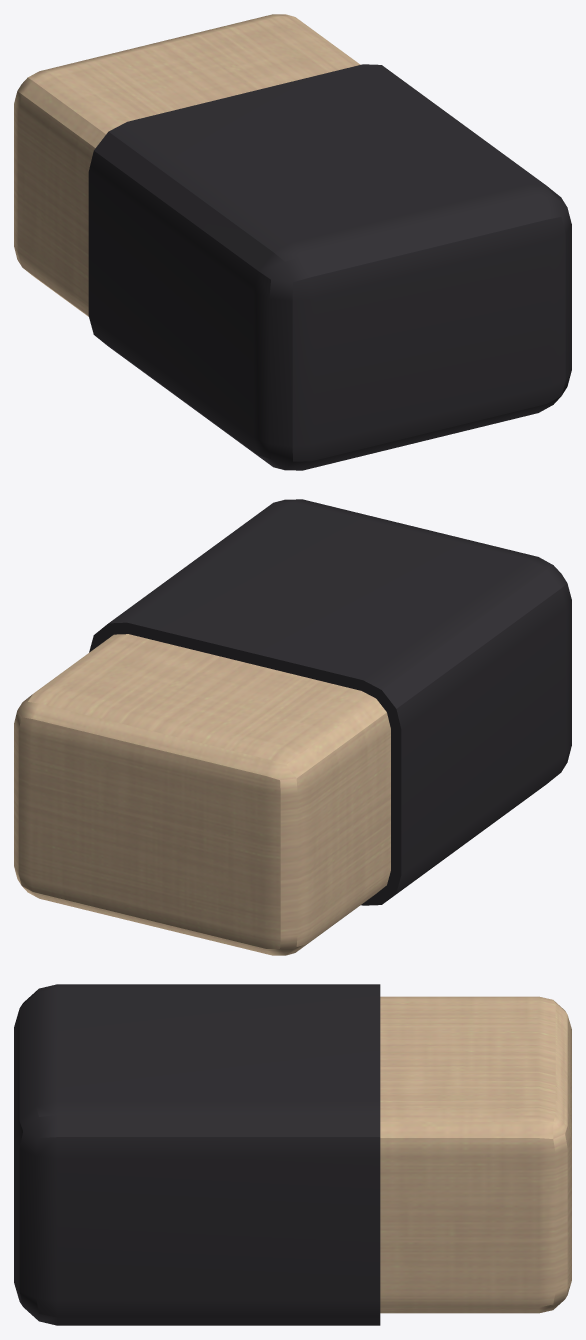
File: Eraser.fbx
3 renders of one model, top to bottom at view 1: azimuth 30°, elevation 25°; view 2: azimuth 150°, elevation 25°; view 3: azimuth 270°, elevation 25°, orthographic. The views are drawn at different scales.
Visible parts, largest first — view 1: Eraser; view 2: Eraser; view 3: Eraser.
Boxes of the visible parts, <box> form: Eraser: <box>14,14,571,470</box>; Eraser: <box>14,499,571,955</box>; Eraser: <box>14,984,571,1325</box>.
Bounding box in the file's own units: 17.75 × 12.23 × 27.99.
